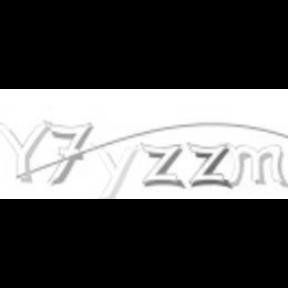7: (43, 120, 95, 186)
Y: (0, 118, 52, 184)
m: (228, 141, 288, 187)
y: (94, 145, 140, 199)
z: (186, 142, 232, 189), (142, 142, 184, 188)
